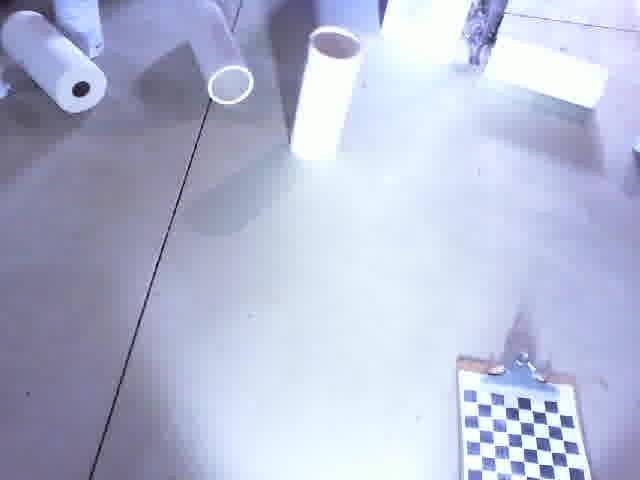coral: (287, 22, 363, 169), (482, 33, 619, 110), (175, 0, 259, 108)
